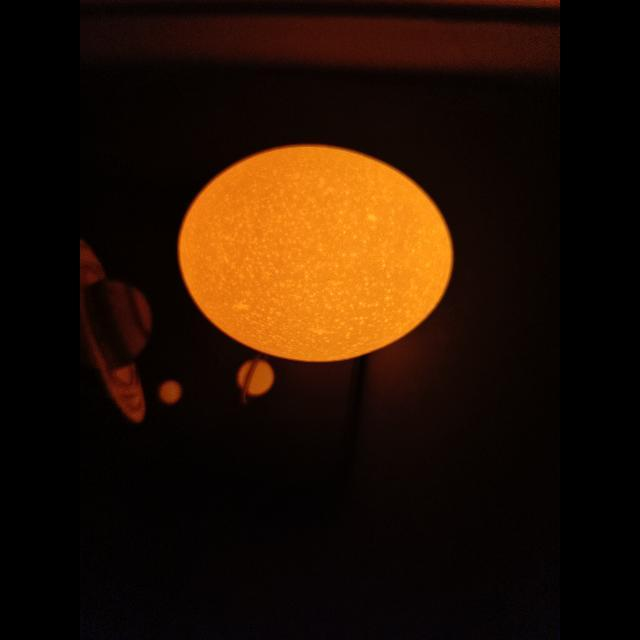AA - Premium: (179, 145, 453, 361)
